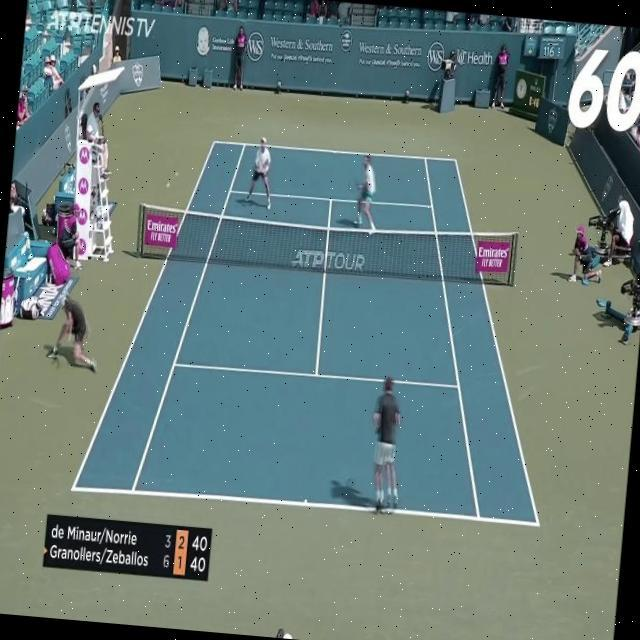court: (70, 127, 571, 532)
net: (134, 198, 519, 286)
player: (366, 374, 410, 513), (44, 294, 104, 374)
